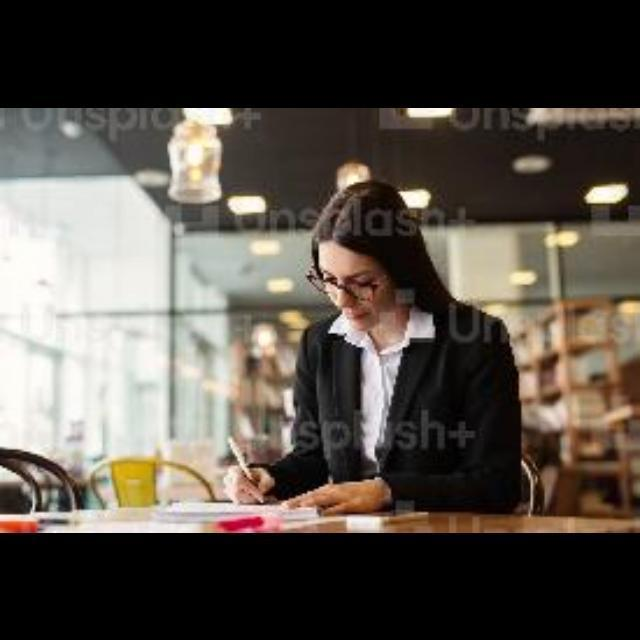PhoneUse: (349, 514, 437, 524)
